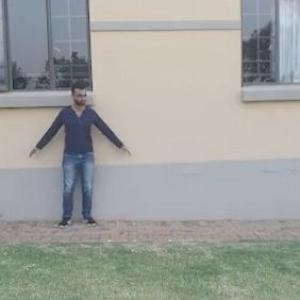land: (28, 84, 128, 238)
